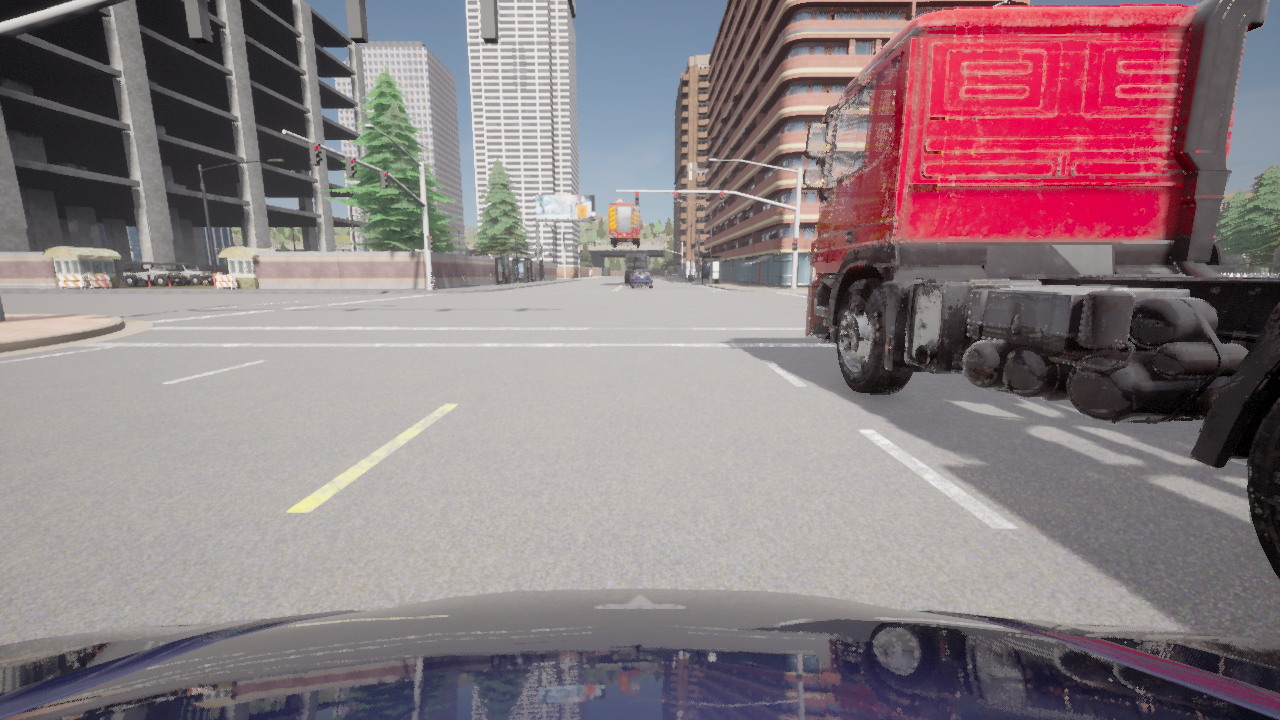cyclist: (802, 0, 1279, 580), (0, 588, 1279, 719), (608, 197, 642, 247), (121, 262, 188, 286), (162, 262, 213, 285), (623, 253, 650, 283), (630, 269, 651, 288), (629, 273, 632, 285), (589, 269, 590, 275), (591, 270, 592, 275), (637, 285, 638, 286)
pedestrian: (460, 272, 466, 288), (431, 273, 437, 289), (488, 272, 493, 286)
